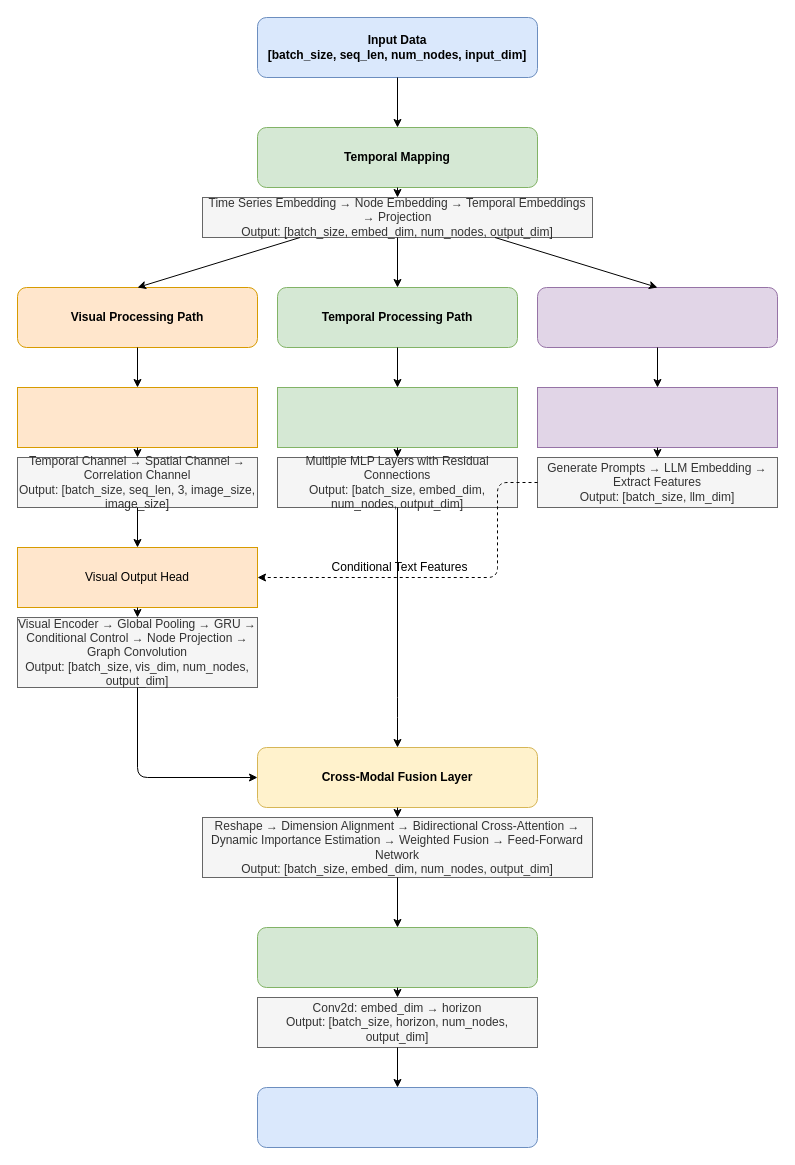
Some shapes in this 795 by 1165 pixel diagram are drawn without their labels. Here are the shapes that lost their labels. From the top down, the centre of each, then its label:
At point 657,317: "Text Processing Path".
At point 137,417: "MultiPerspectiveVisualEncoder".
At point 397,417: "Temporal Encoder".
At point 657,417: "Text Encoder".
At point 397,957: "Temporal Output Head".
At point 397,1117: "Final Prediction [batch_size, horizon, num_nodes, output_dim]".
